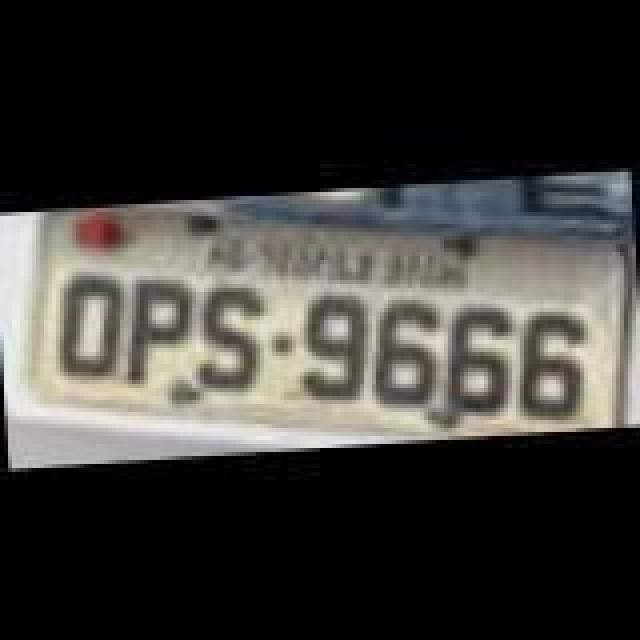6: (438, 300, 522, 420), (360, 290, 440, 414), (504, 312, 592, 424)
9: (292, 282, 380, 406)
O: (46, 270, 130, 386)
P: (118, 280, 202, 392)
S: (176, 280, 272, 400)
